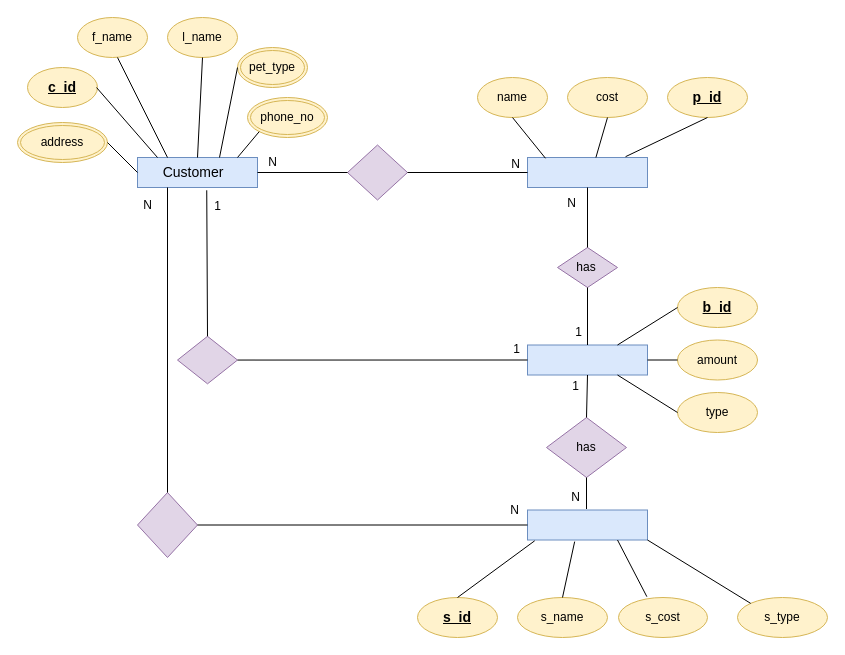
Some shapes in this 845 by 655 pixel diagram are drawn without their labels. The box of each missing label's shape, as (x1, y1, x2, y2) in pixels:
Bill: (526, 344, 648, 375)
buy: (346, 144, 408, 200)
pay: (176, 335, 238, 384)
Product: (526, 156, 648, 188)
service: (526, 509, 648, 540)
takes: (136, 492, 198, 558)
